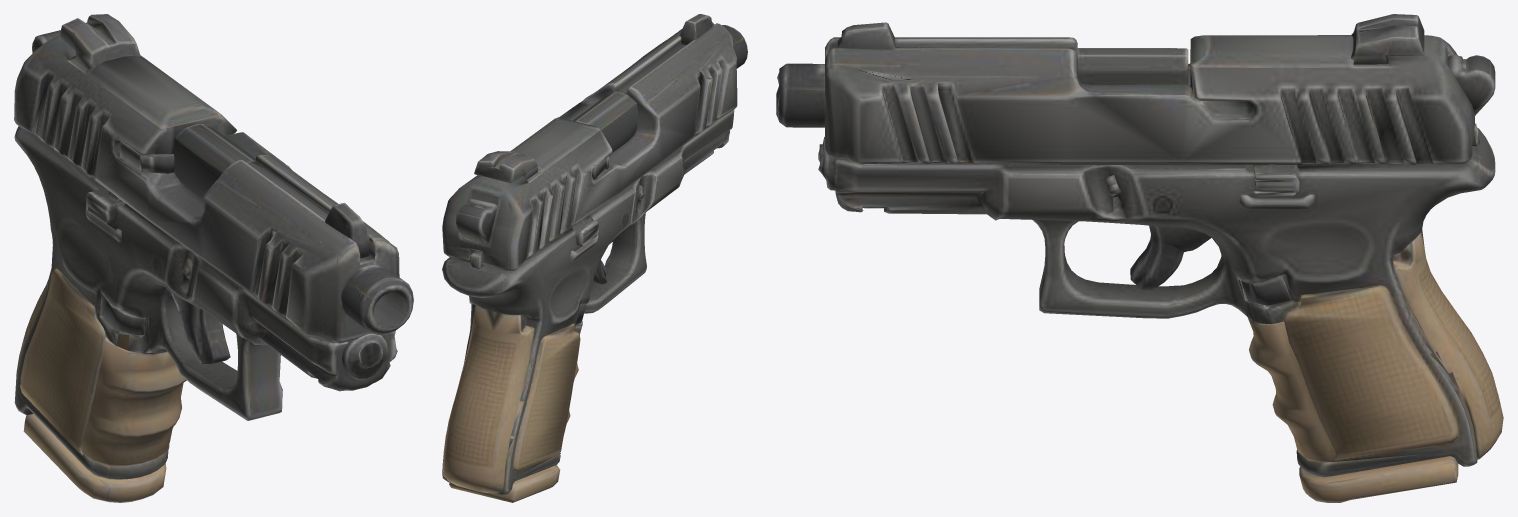
File: pistol.glb
3 renders of one model, left to right at view 1: azimuth 30°, elevation 25°; view 2: azimuth 150°, elevation 25°; view 3: azimuth 270°, elevation 25°, orthographic. The views are drawn at different scales.
Visible parts, largest first — view 1: w_pistol; view 2: w_pistol; view 3: w_pistol.
Part boxes in pixels (x1,y1,x2,y2): w_pistol: [14, 14, 413, 502]; w_pistol: [442, 14, 747, 502]; w_pistol: [776, 14, 1503, 502].
Size of the model in its own units: 0.0636 by 0.2407 by 0.34.
1 material, 1 textured.
